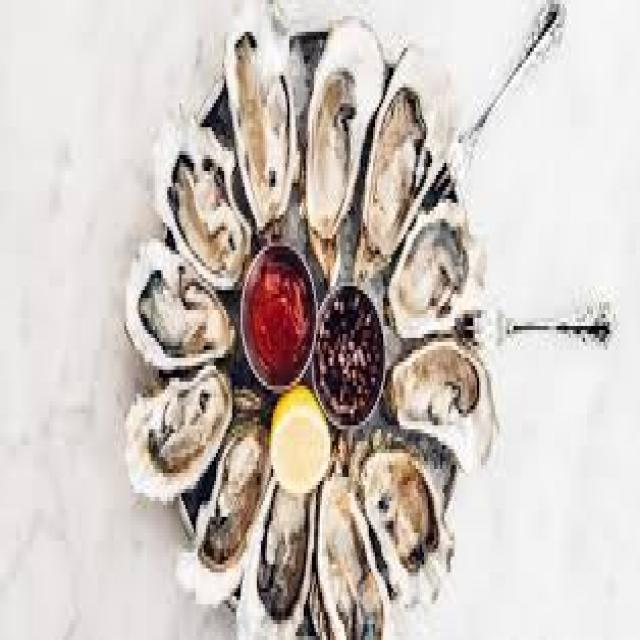Lemon: (272, 391, 331, 490)
Oysters: (230, 1, 298, 228), (368, 438, 457, 608), (158, 113, 249, 268), (303, 7, 361, 240), (386, 335, 502, 449), (193, 422, 263, 606), (122, 367, 226, 490), (130, 253, 240, 366), (366, 68, 446, 223), (392, 195, 484, 328), (318, 483, 379, 640), (257, 504, 312, 640)
